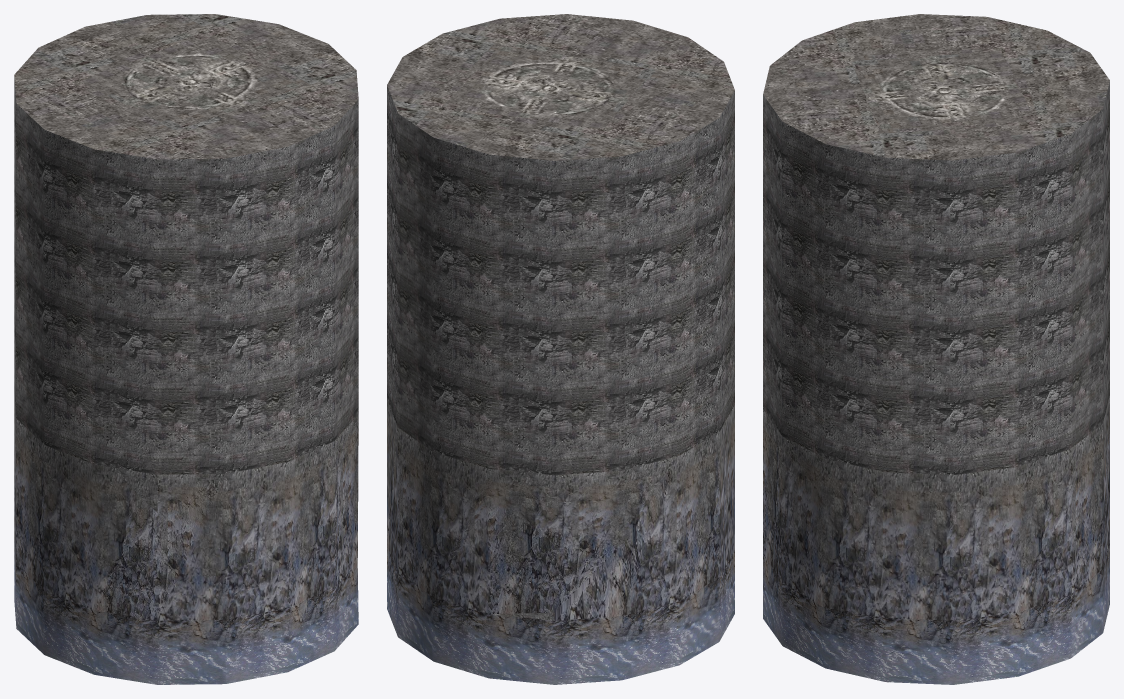
The picture shows the model from 3 angles, left to right: view 1: azimuth 30°, elevation 25°; view 2: azimuth 150°, elevation 25°; view 3: azimuth 270°, elevation 25°; orthographic projection.
Parts seen in each view (by area): view 1: WZ1; view 2: WZ1; view 3: WZ1.
Part boxes in pixels (<box>): WZ1: <box>14,14,358,684</box>; WZ1: <box>387,14,734,684</box>; WZ1: <box>763,14,1109,684</box>.
Size of the model in its own units: 498 by 830 by 498.
